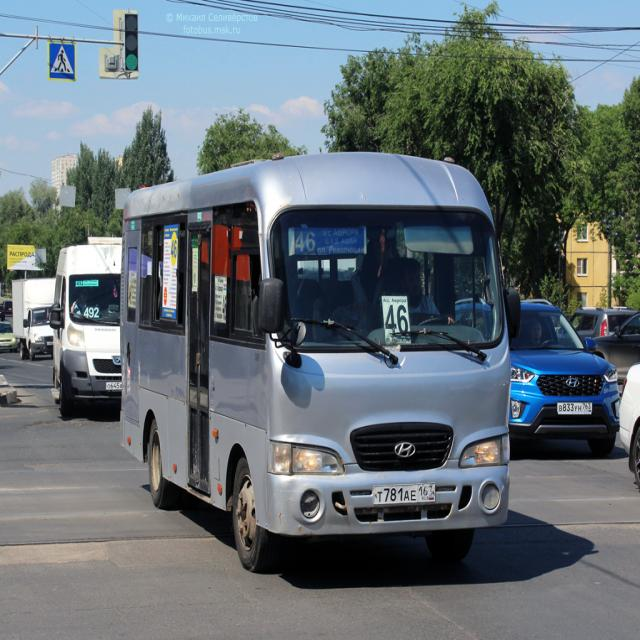number-of-bus: (385, 305, 411, 338), (295, 230, 317, 255)
